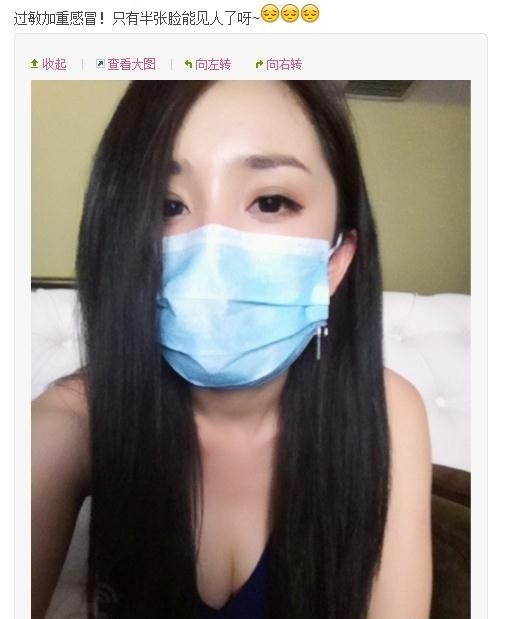face_mask: (138, 105, 332, 383)
